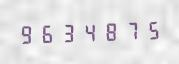eight: (97, 19, 116, 43)
five: (137, 18, 156, 41)
four: (77, 20, 96, 43)
nine: (17, 22, 36, 45)
seven: (117, 19, 136, 42)
six: (37, 21, 56, 45)
three: (57, 21, 76, 44)
